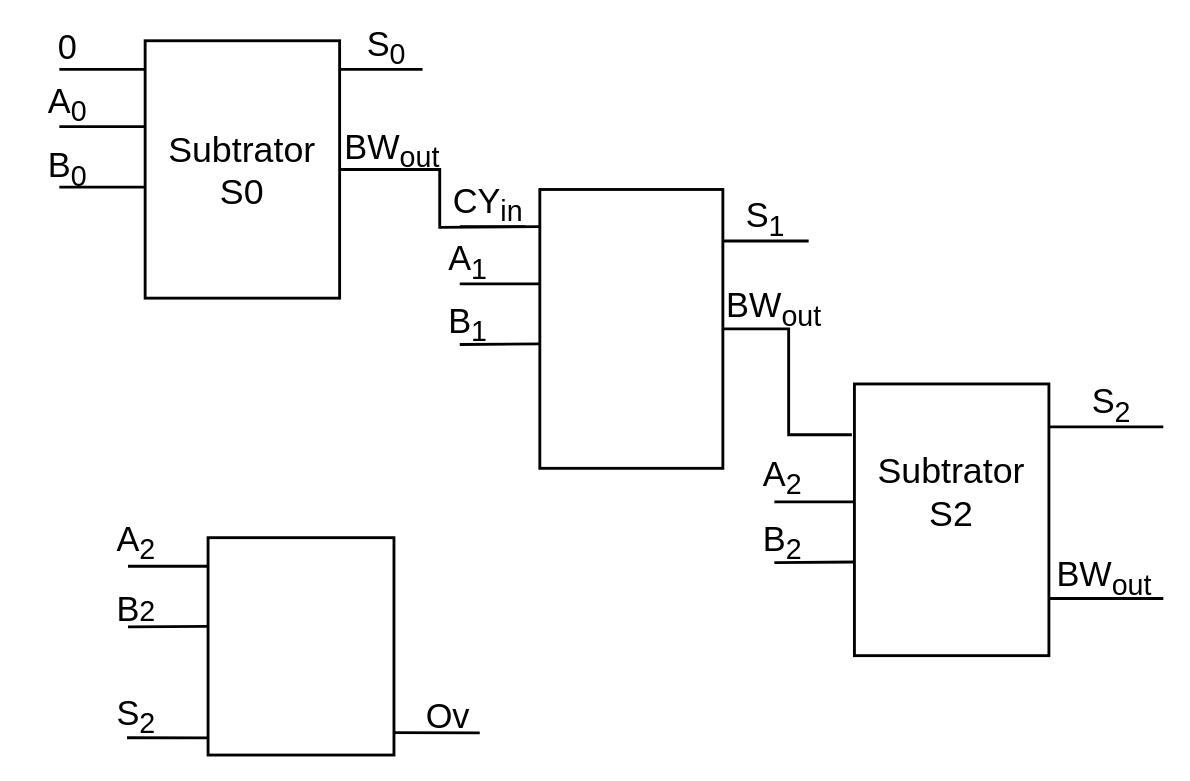
The diagram is 1190 pixels wide and 781 high, and some of its shapes have lost their labels. Here are the shapes that lost their labels. From the top down, the box of each, then its label:
(538, 187, 724, 469): Subtrator S1
(206, 536, 395, 756): Overflow
